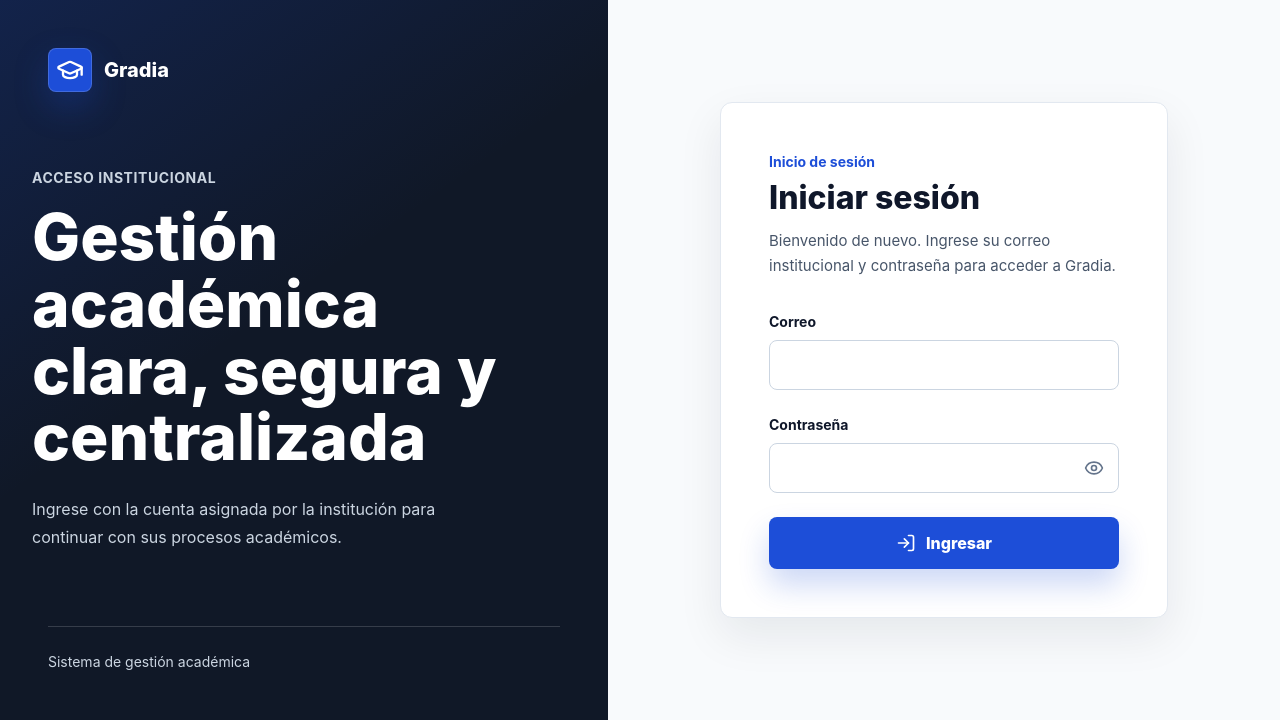
it: página de inicio de sesión › muestra un error genérico para login incorrecto
Type "ada@example.test" into the field labelled "Correo" at (944, 365), box 769,340 -> 1119,390
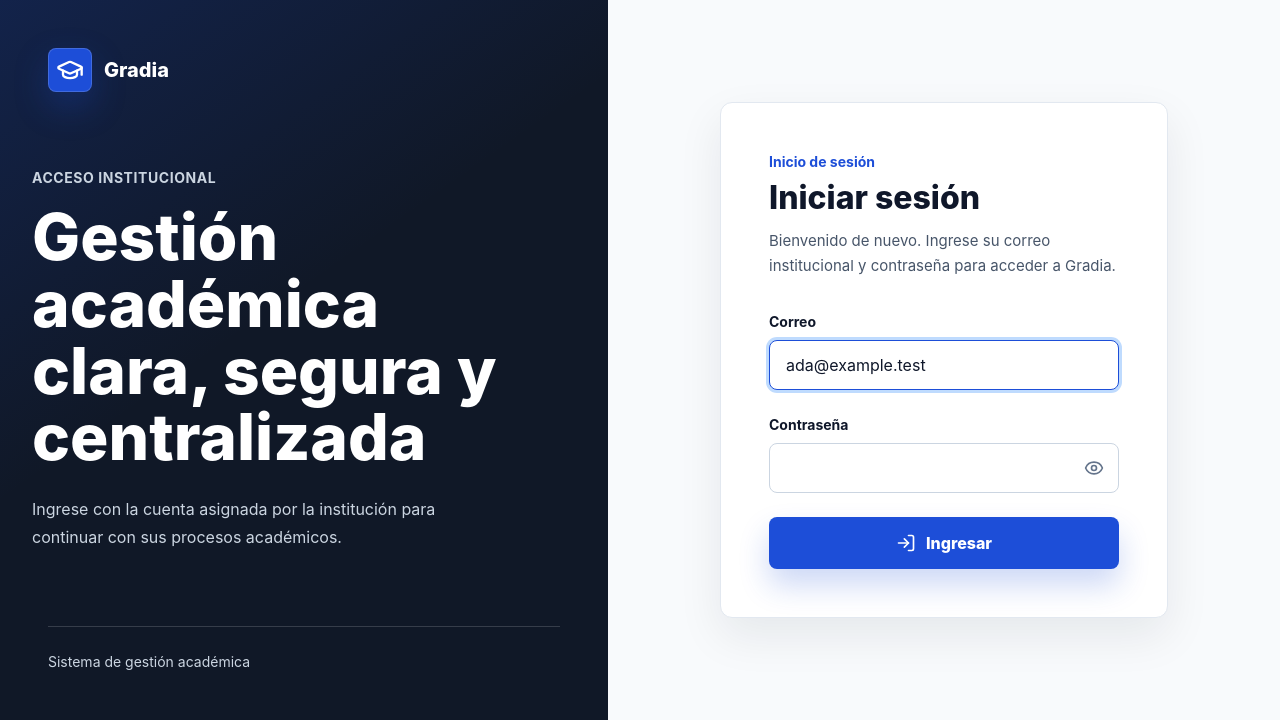
Type "Incorrecta-2026!" into the password field labelled "Contraseña" at (944, 468), box 769,443 -> 1119,493
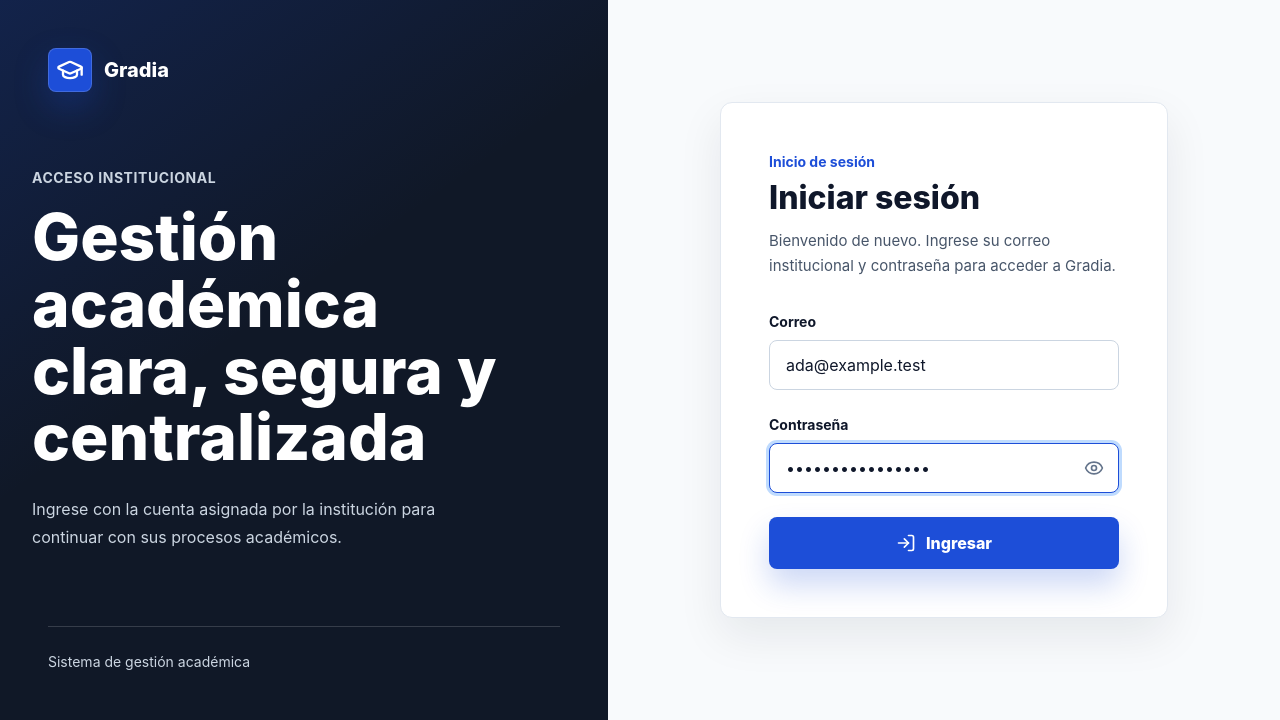
Click the button "Ingresar" at (944, 543), box 769,517 -> 1119,569
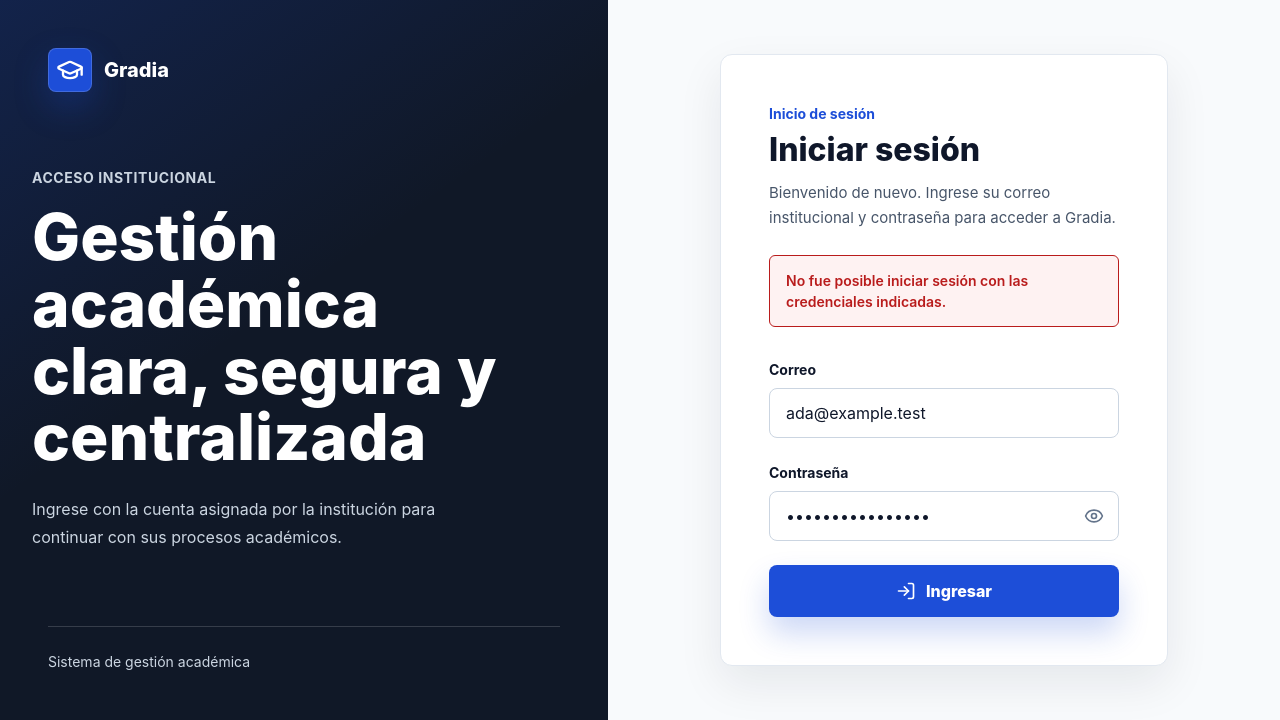
Result: the message shows "No fue posible iniciar sesión" at 786,272 -> 1028,310
